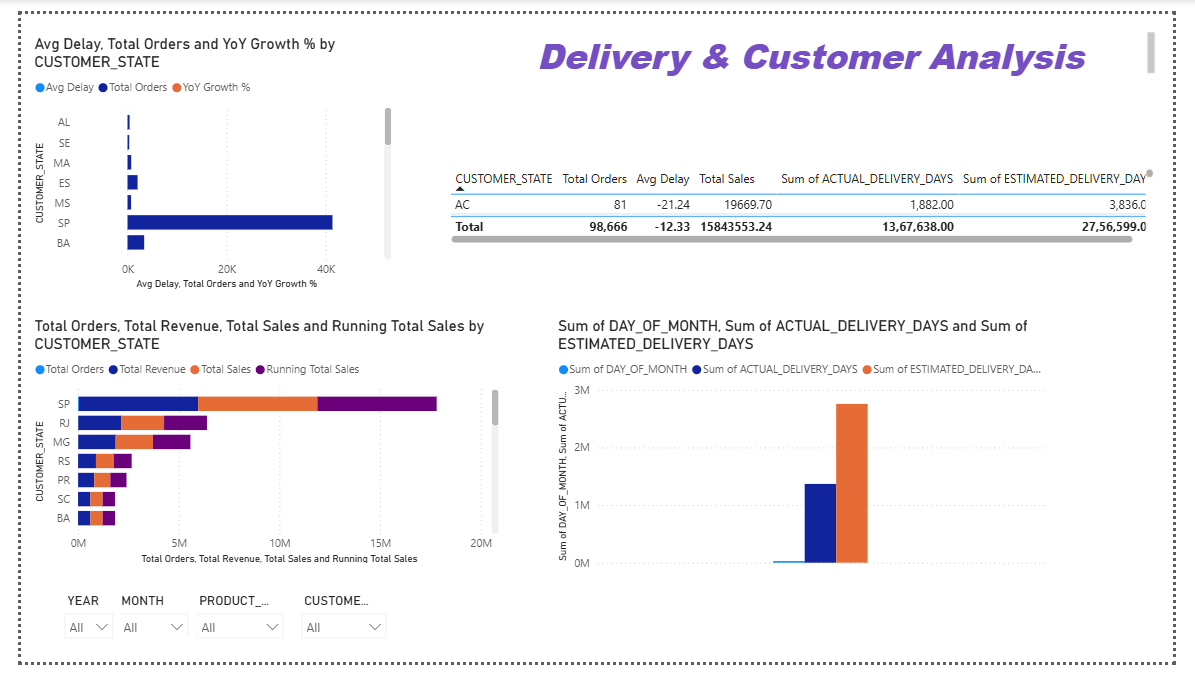

This screenshot's page, from the dashboard's own definition file:
{"tool":"powerbi","page":{"name":"Page 3","canvas":[1280,720],"ordinal":2},"visuals":[{"type":"barChart","fields":{"Category":["DIM_CUSTOMER.CUSTOMER_STATE"],"Y":["MEASURES (2).Total Orders","MEASURES (2).Total Revenue","MEASURES (2).Total Sales","MEASURES (2).Running Total Sales"]},"box":[28.3,396.7,430,228.3],"z":1000},{"type":"tableEx","fields":{"Values":["DIM_CUSTOMER.CUSTOMER_STATE","MEASURES (2).Total Orders","MEASURES (2).Avg Delay","MEASURES (2).Total Sales","Sum(FACT_ORDER_ITEMS.ACTUAL_DELIVERY_DAYS)","Sum(FACT_ORDER_ITEMS.ESTIMATED_DELIVERY_DAYS)"]},"box":[123.3,73.3,805,266.7],"z":2000},{"type":"lineClusteredColumnComboChart","fields":{"Y":["Sum(DIM_DATE.DAY_OF_MONTH)","Sum(FACT_ORDER_ITEMS.ACTUAL_DELIVERY_DAYS)","Sum(FACT_ORDER_ITEMS.ESTIMATED_DELIVERY_DAYS)"]},"box":[605,396.7,553.3,228.3],"z":3000},{"type":"textbox","box":[498.2,15.1,766.2,59.1],"z":4000},{"type":"slicer","fields":{"Values":["DIM_CUSTOMER.CUSTOMER_STATE"]},"box":[301.9,638.1,113.9,63.1],"z":5000},{"type":"slicer","fields":{"Values":["DIM_PRODUCT.PRODUCT_CATEGORY_NAME"]},"box":[185.3,638.1,116.6,75.5],"z":6000},{"type":"slicer","fields":{"Values":["DIM_DATE.MONTH"]},"box":[98.8,638.1,97.4,52.1],"z":7000},{"type":"slicer","fields":{"Values":["DIM_DATE.YEAR"]},"box":[38.4,638.1,74.1,63.1],"z":8000}]}

Visuals, with their boxes in screenshot pixels (x1, y1, x2, y2), scaled from the page's 1280x720 canvas onto the 1195x679 screenshot:
barChart - DIM_CUSTOMER.CUSTOMER_STATE x MEASURES (2).Total Orders: 26/374/428/589
tableEx - DIM_CUSTOMER.CUSTOMER_STATE x MEASURES (2).Total Orders: 115/69/867/321
lineClusteredColumnComboChart - Sum(DIM_DATE.DAY_OF_MONTH) x Sum(FACT_ORDER_ITEMS.ACTUAL_DELIVERY_DAYS): 565/374/1081/589
textbox: 465/14/1180/70
slicer - DIM_CUSTOMER.CUSTOMER_STATE: 282/602/388/661
slicer - DIM_PRODUCT.PRODUCT_CATEGORY_NAME: 173/602/282/673
slicer - DIM_DATE.MONTH: 92/602/183/651
slicer - DIM_DATE.YEAR: 36/602/105/661
